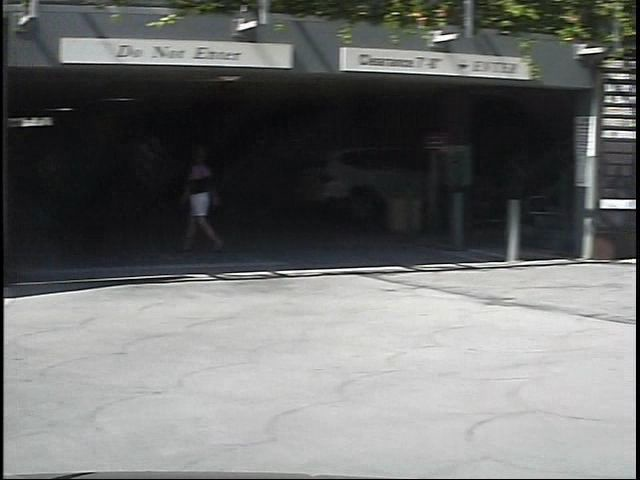person: (164, 143, 216, 262)
